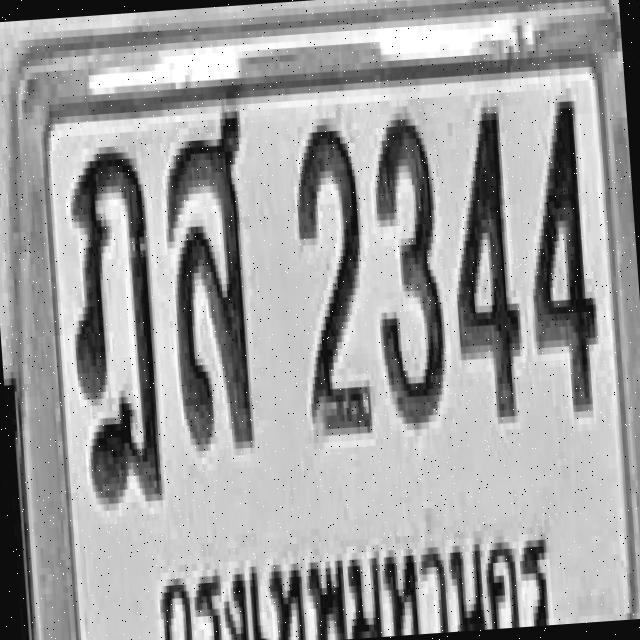2: (291, 113, 374, 433)
23DorChaDa: (60, 141, 166, 502)
3: (365, 108, 448, 428)
4: (442, 99, 525, 419), (518, 90, 600, 410)
49SorSuea: (159, 100, 262, 448)
